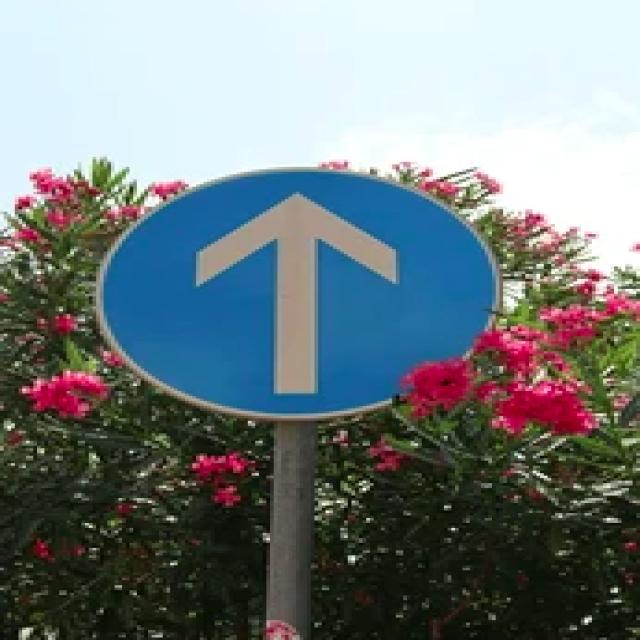STRAIGHT: (100, 169, 496, 418)
